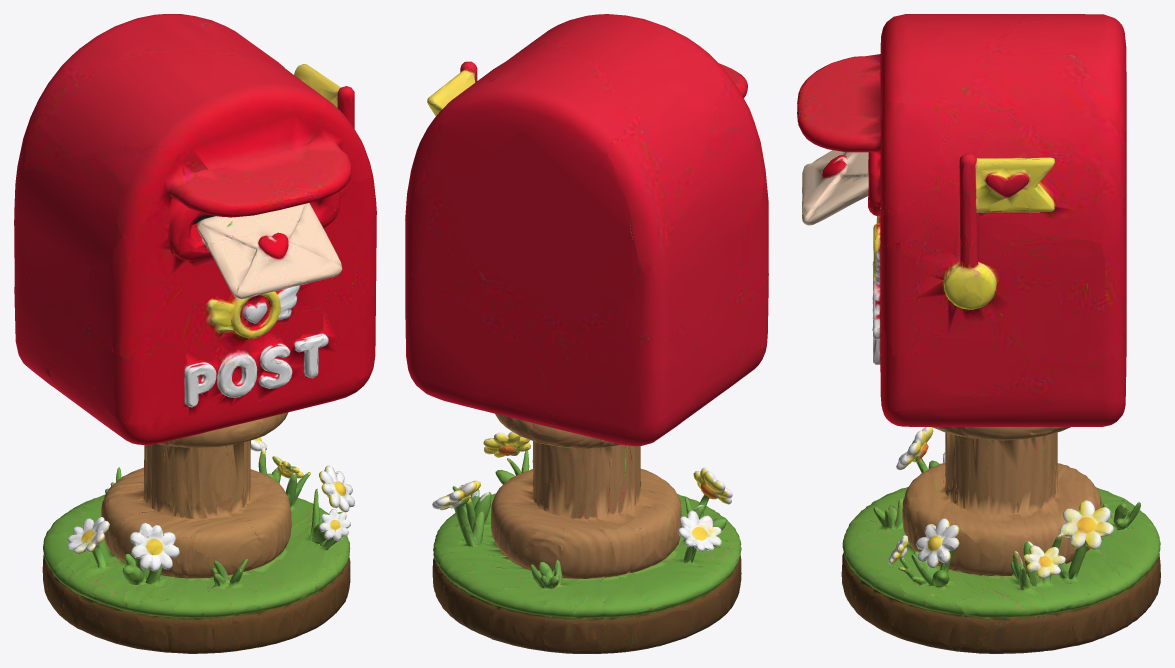
Rendered from mailbox.glb.
3 renders of one model, left to right at view 1: azimuth 30°, elevation 25°; view 2: azimuth 150°, elevation 25°; view 3: azimuth 270°, elevation 25°, orthographic. The views are drawn at different scales.
Parts seen in each view (by area): view 1: Mesh_0; view 2: Mesh_0; view 3: Mesh_0.
Part boxes in pixels (box(x1,y1,x2,y2)): Mesh_0: box(14, 14, 376, 653); Mesh_0: box(405, 14, 768, 653); Mesh_0: box(797, 14, 1160, 653).
Size of the model in its own units: 1.03 by 1.9 by 1.12.
Materials: 1 (1 with a texture image).
